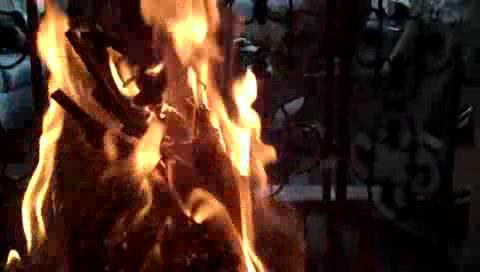fire: (29, 5, 254, 255)
